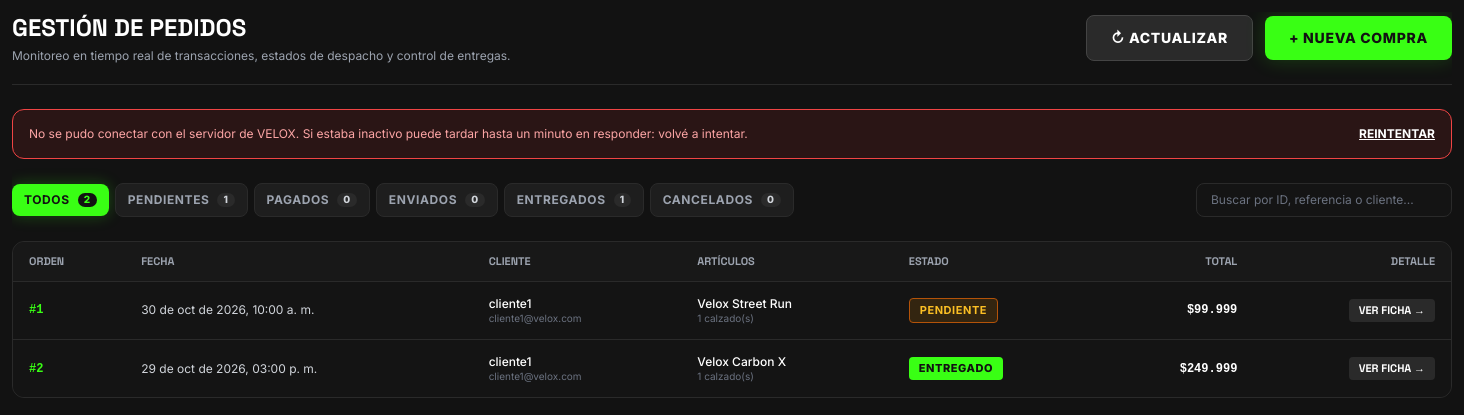
Test: Dashboard Pedidos (/dashboard/pedidos - R1) - Listado Reactivo y Filtros › filtra pedidos mediante la barra de búsqueda por texto o SKU
The image size is (1464, 415).
Check: the text "#1" is shown, box [13,281,125,340]
Type "Carbon X" into the field with placeholder "Buscar por ID, referencia o cliente..." at (1324, 200), box [1196,183,1452,217]
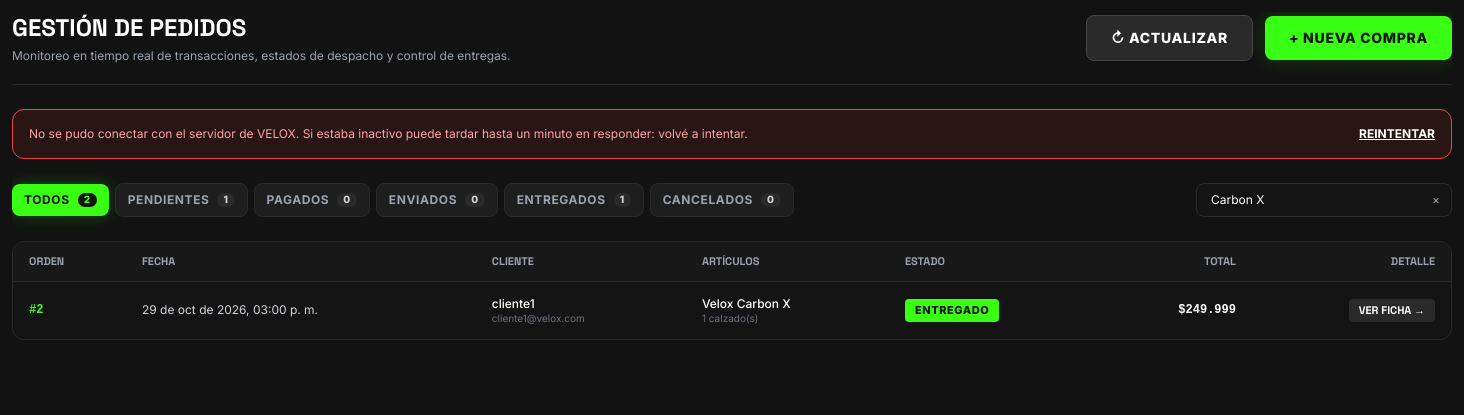
Check: the text "#2" is shown, box [13,281,126,339]
Check: the text "#1" is gone
